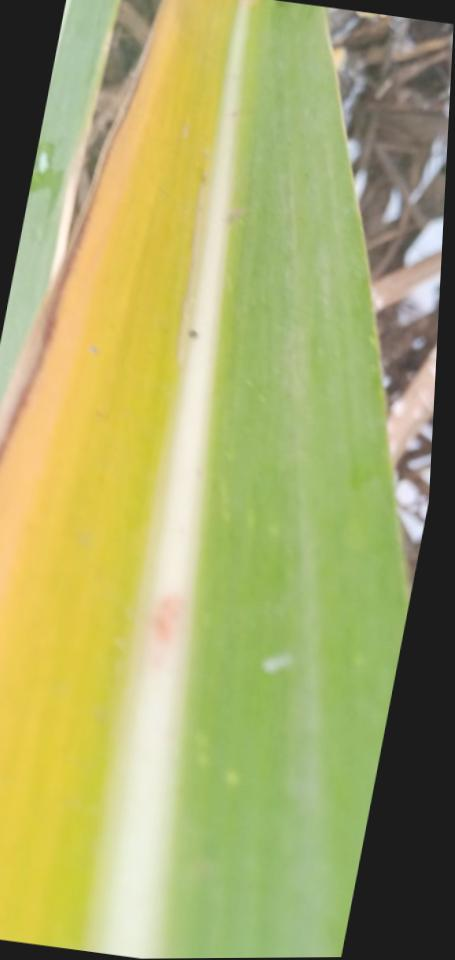RedRot: (151, 592, 187, 647)
Rust: (183, 327, 198, 338)
Yellow: (0, 0, 183, 852)
